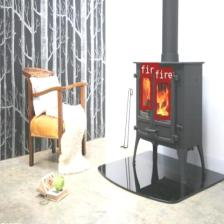fire: (154, 78, 170, 118), (140, 74, 152, 109)
